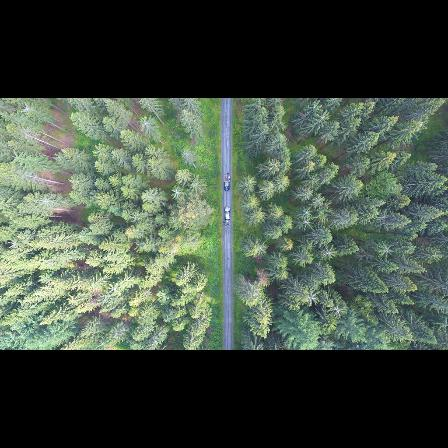Sick: (327, 300, 348, 322), (374, 242, 396, 259), (304, 289, 320, 309), (320, 243, 338, 260), (104, 282, 123, 297), (298, 215, 313, 233), (170, 184, 185, 202), (310, 193, 325, 209)
